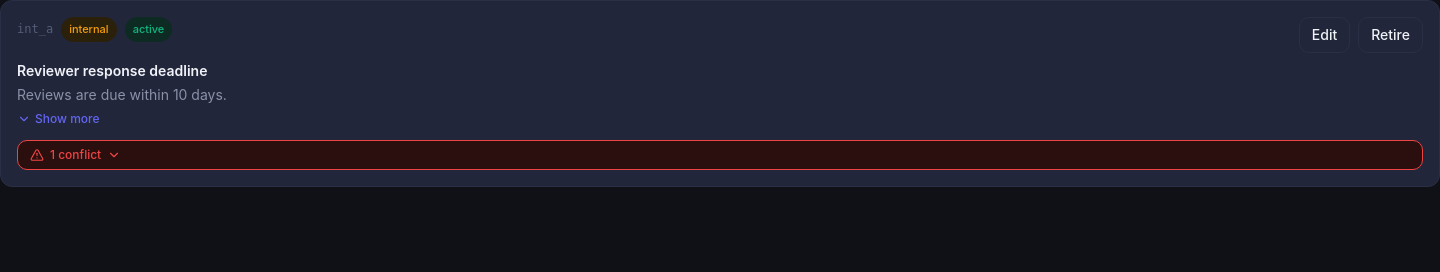
PolicyList conflict strip (2e) › shows a conflict count that expands to the detail + snippet
What coordinates should you click on to do the following:
click the button "1 conflict"
I would click on:
 (78, 154)
Its box is [18, 141, 1422, 169].
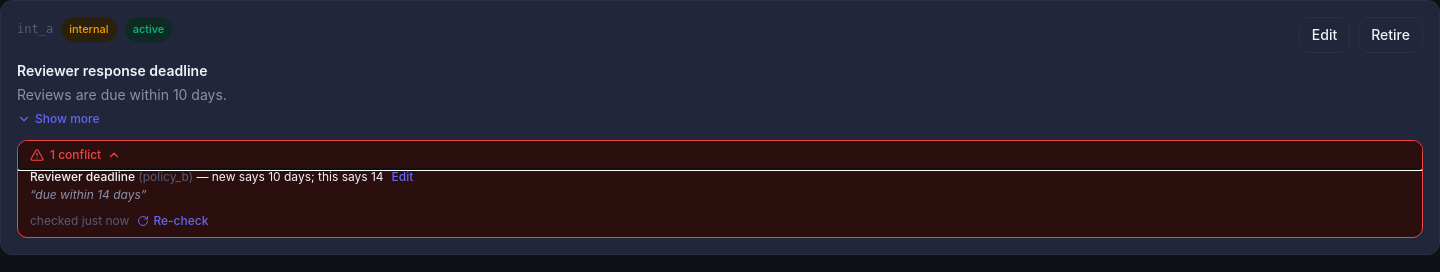
expect the text "— new says 10 days; this says 14" is shown: met, box [193, 169, 384, 184]
expect the text "(policy_b)" is shown: met, box [135, 169, 193, 184]
expect the text "“due within 14 days”" is shown: met, box [30, 187, 147, 202]
